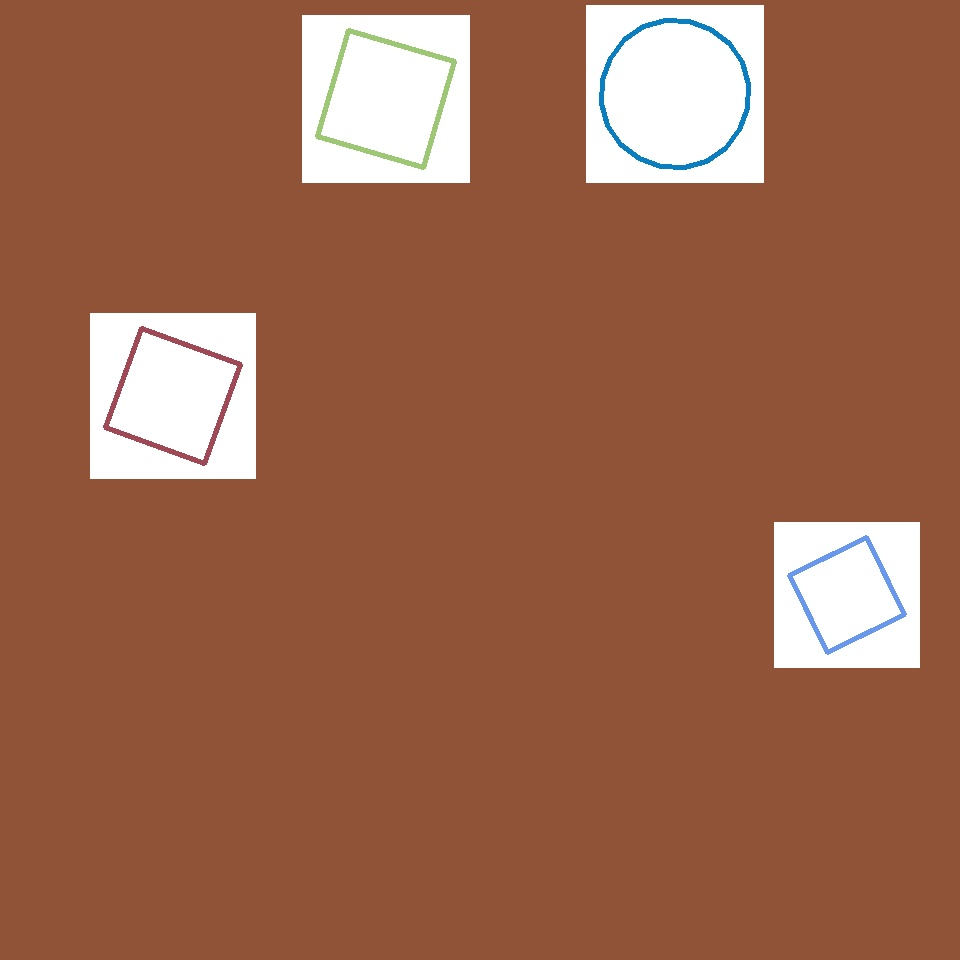circle: (83, 532, 325, 781)
square: (318, 30, 454, 168), (106, 328, 240, 464), (790, 537, 905, 652)
triangle: (646, 650, 808, 812), (602, 20, 748, 168)
